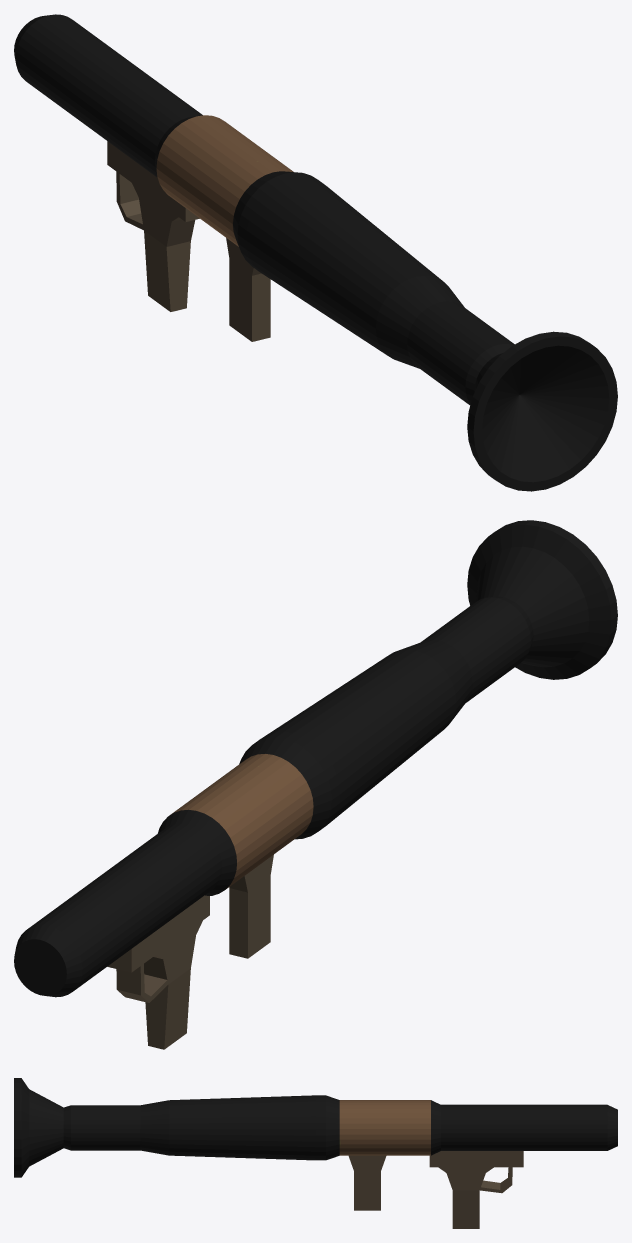
Rendered from rocket_launcher.glb.
3 renders of one model, top to bottom at view 1: azimuth 30°, elevation 25°; view 2: azimuth 150°, elevation 25°; view 3: azimuth 270°, elevation 25°, orthographic. The views are drawn at different scales.
Parts seen in each view (by area): view 1: Cylinder, Cube.001, Cube; view 2: Cylinder, Cube.001, Cube; view 3: Cylinder, Cube.001, Cube.
Boxes of the visible parts, box(x1,y1,x2,y2) form: Cylinder: box(14, 14, 617, 491); Cube.001: box(107, 141, 199, 311); Cube: box(226, 238, 270, 341); Cylinder: box(14, 520, 617, 997); Cube.001: box(107, 895, 209, 1049); Cube: box(229, 854, 273, 958); Cylinder: box(14, 1078, 617, 1177); Cube.001: box(429, 1151, 523, 1228); Cube: box(348, 1155, 386, 1210).
Bounding box in the file's own units: 0.8935 × 1.42 × 5.42.
Materials: 3 (1 with a texture image).
